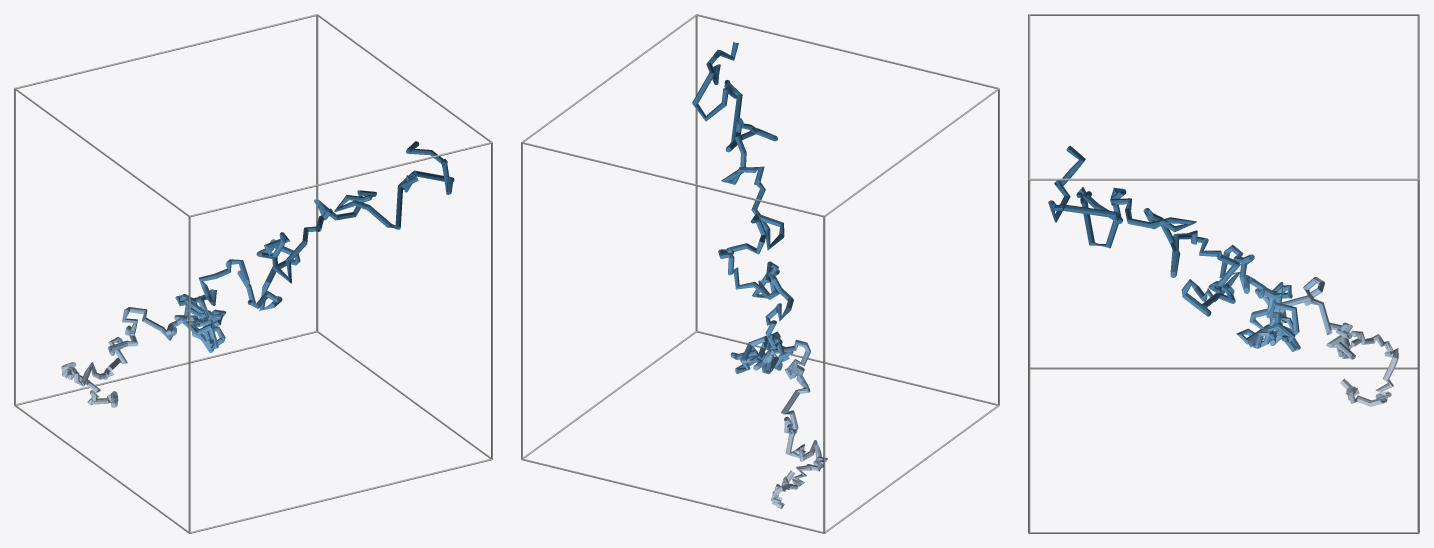
Rendered from BR08_late.glb.
The picture shows the model from 3 angles, left to right: view 1: azimuth 30°, elevation 25°; view 2: azimuth 150°, elevation 25°; view 3: azimuth 270°, elevation 25°; orthographic projection. The views are drawn at different scales.
Visible parts, largest first — view 1: geometry_0, geometry_1; view 2: geometry_0, geometry_1; view 3: geometry_0, geometry_1.
Part boxes in pixels (left/top/right/bottom): geometry_0: left=61, top=141, right=454, bottom=407; geometry_1: left=14, top=14, right=492, bottom=533; geometry_0: left=692, top=41, right=827, bottom=508; geometry_1: left=521, top=14, right=999, bottom=533; geometry_0: left=1048, top=146, right=1398, bottom=406; geometry_1: left=1028, top=14, right=1419, bottom=533.
Bounding box in the file's own units: 0.3016 × 0.3039 × 0.3016.
